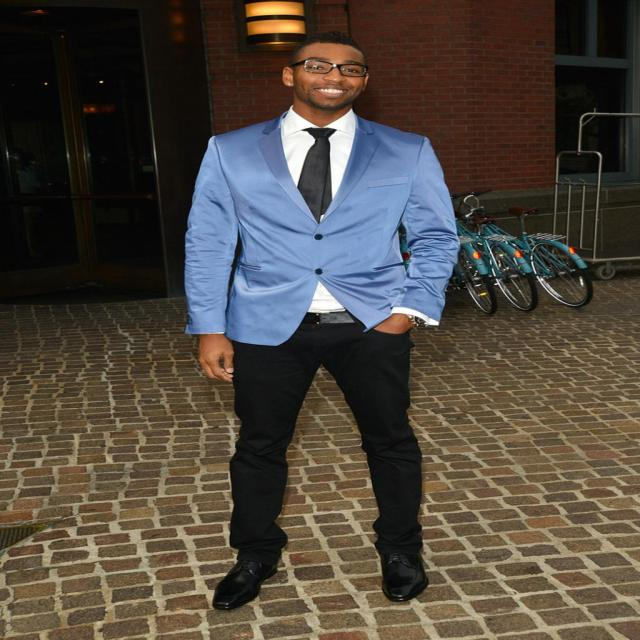Face: (289, 38, 380, 115)
